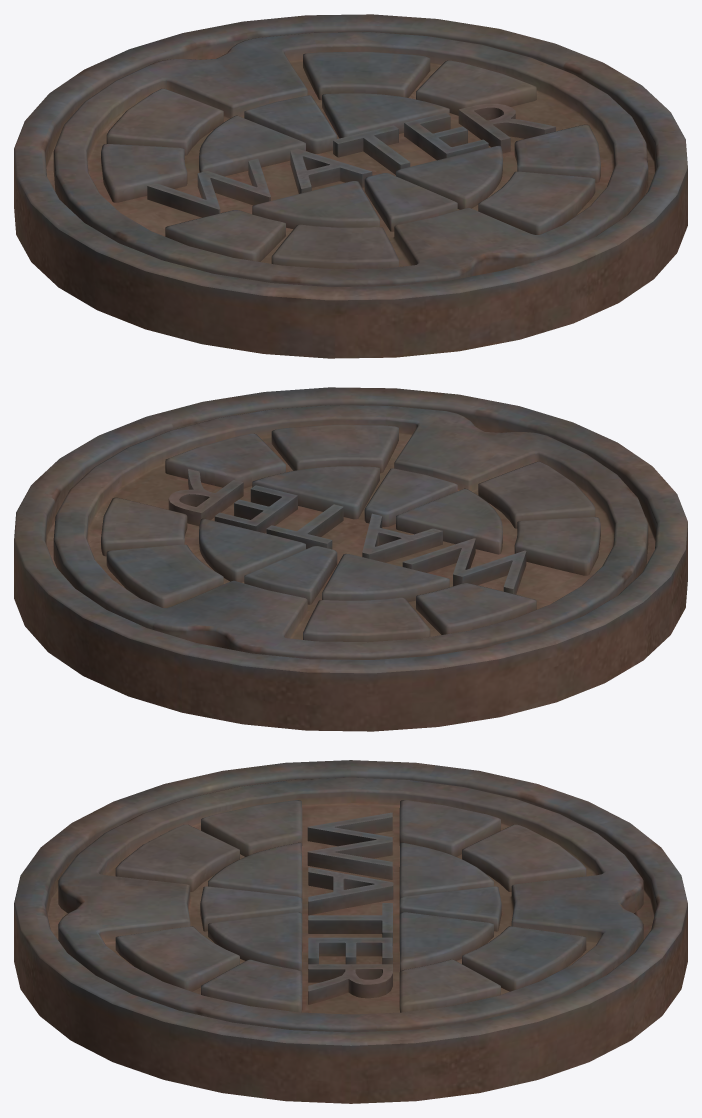
File: water_manhole_cover.gltf
The picture shows the model from 3 angles, top to bottom: view 1: azimuth 30°, elevation 25°; view 2: azimuth 150°, elevation 25°; view 3: azimuth 270°, elevation 25°; orthographic projection.
Visible parts, largest first — view 1: water_manhole_cover, water_manhole_cover_frame; view 2: water_manhole_cover, water_manhole_cover_frame; view 3: water_manhole_cover, water_manhole_cover_frame.
Part boxes in pixels (left/top/right/bottom): water_manhole_cover: left=53, top=32, right=648, bottom=286; water_manhole_cover_frame: left=14, top=14, right=687, bottom=358; water_manhole_cover: left=53, top=405, right=648, bottom=659; water_manhole_cover_frame: left=14, top=387, right=687, bottom=731; water_manhole_cover: left=58, top=777, right=643, bottom=1032; water_manhole_cover_frame: left=14, top=760, right=687, bottom=1103.
Bounding box in the file's own units: 0.6908 × 0.0676 × 0.6908.
1 material, 1 textured.
